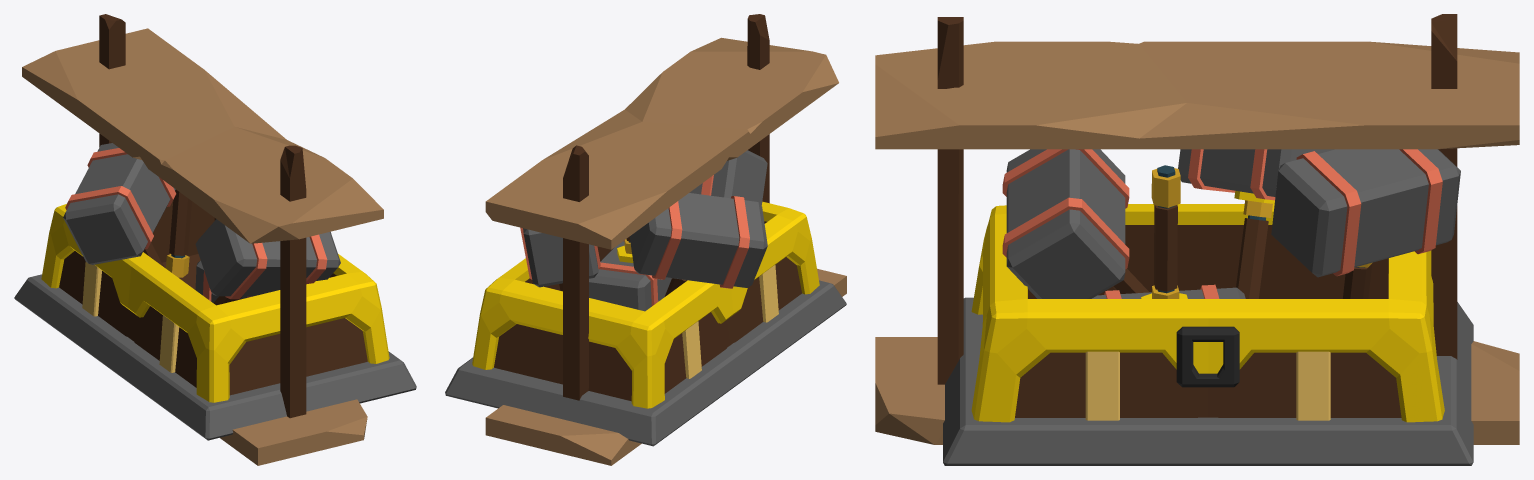
Rendered from HammerChest.fbx.
3 renders of one model, left to right at view 1: azimuth 30°, elevation 25°; view 2: azimuth 150°, elevation 25°; view 3: azimuth 270°, elevation 25°, orthographic. The views are drawn at different scales.
Visible parts, largest first — view 1: WoodHolder, Plane.001, Hammer.004, Hammer.001, Hammer.002, Hammer.003; view 2: WoodHolder, Plane.001, Hammer.004, Hammer.003, Hammer.001, Hammer.002; view 3: Plane.001, WoodHolder, Hammer.002, Hammer.001, Hammer.004, Hammer.003.
Boxes of the visible parts, box(x1,y1,x2,y2) form: WoodHolder: box(22, 14, 383, 465); Plane.001: box(14, 200, 416, 440); Hammer.004: box(63, 143, 176, 267); Hammer.001: box(195, 219, 340, 305); Hammer.002: box(166, 189, 191, 277); Hammer.003: box(195, 260, 251, 302); WoodHolder: box(485, 14, 846, 465); Plane.001: box(445, 201, 846, 446); Hammer.004: box(629, 193, 767, 296); Hammer.003: box(589, 236, 671, 311); Hammer.001: box(689, 150, 767, 205); Hammer.002: box(520, 227, 600, 291); Plane.001: box(943, 204, 1473, 465); WoodHolder: box(875, 14, 1519, 444); Hammer.002: box(1271, 149, 1460, 298); Hammer.001: box(1002, 149, 1149, 298); Hammer.004: box(1178, 149, 1334, 298); Hammer.003: box(1092, 165, 1245, 298).
Bounding box in the file's own units: 118 × 131 × 200.
